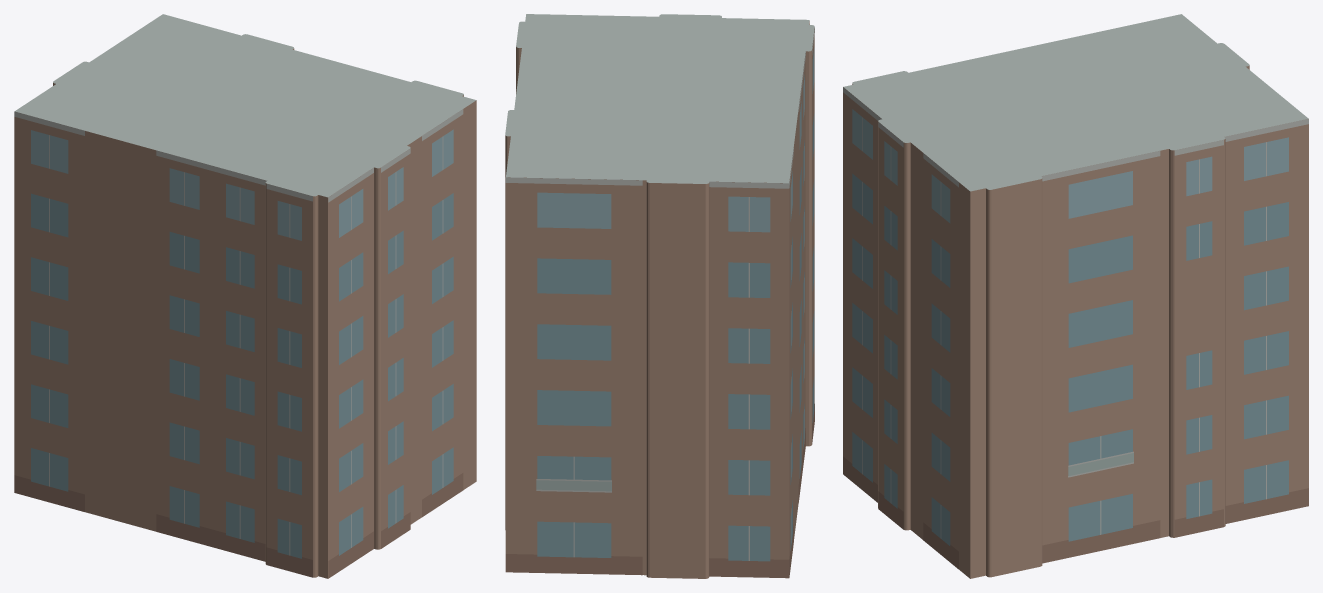
Rendered from survey-upis-32911139.glb.
3 views of the same model, side by side, from view 1: azimuth 30°, elevation 25°; view 2: azimuth 150°, elevation 25°; view 3: azimuth 270°, elevation 25° (orthographic). The views are drawn at different scales.
Parts seen in each view (by area): view 1: survey-upis-32911139.tmp; view 2: survey-upis-32911139.tmp; view 3: survey-upis-32911139.tmp.
Boxes of the visible parts, <box> form: survey-upis-32911139.tmp: <box>14,14,476,578</box>; survey-upis-32911139.tmp: <box>505,14,814,578</box>; survey-upis-32911139.tmp: <box>843,14,1308,578</box>.
Size of the model in its own units: 17.1 by 17.4 by 18.97.
